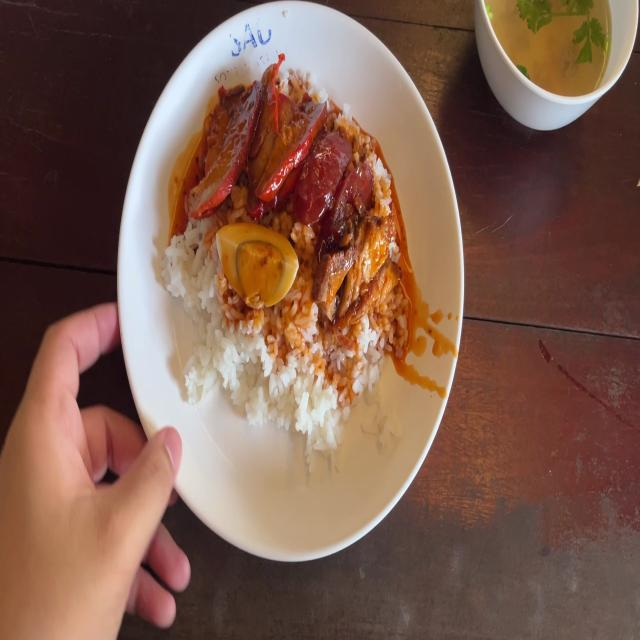01boiled_egg: (220, 222, 288, 305)
01chainese_sausage: (305, 122, 369, 236)
01crispy_pork: (332, 204, 385, 338)
01red_pork: (196, 64, 313, 207)
01red_pork_and_crispy_pork: (171, 89, 398, 427)
01rice: (224, 329, 315, 446), (310, 323, 381, 433), (161, 228, 219, 338)
